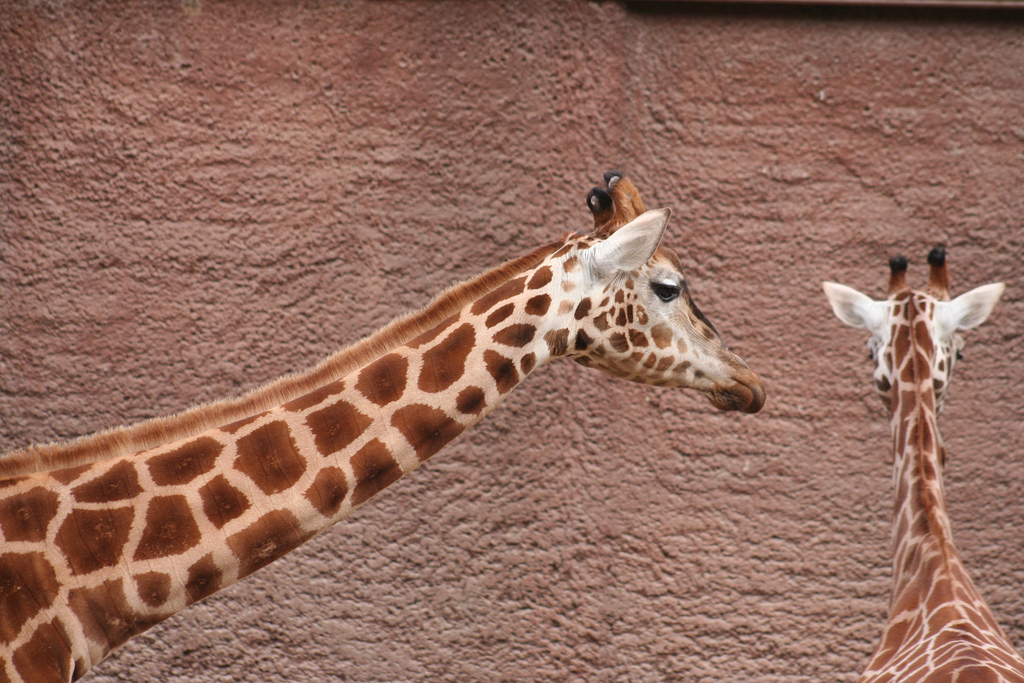giraffe: (47, 165, 794, 645), (803, 219, 1022, 683)
